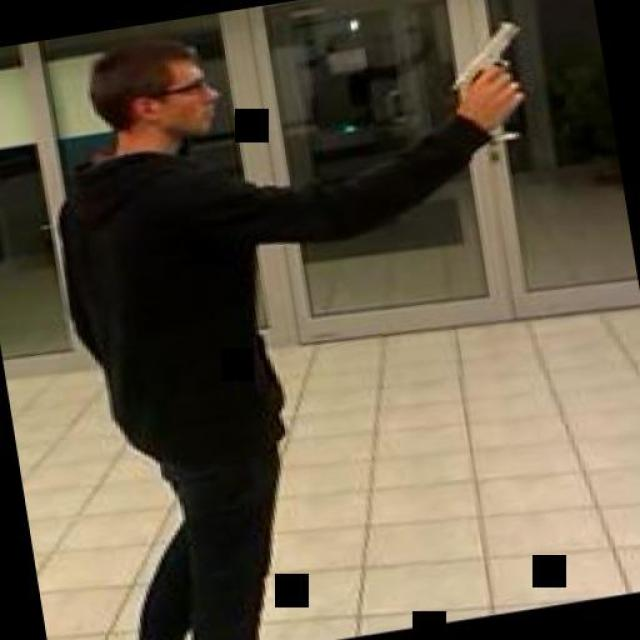gun: (433, 14, 528, 111)
